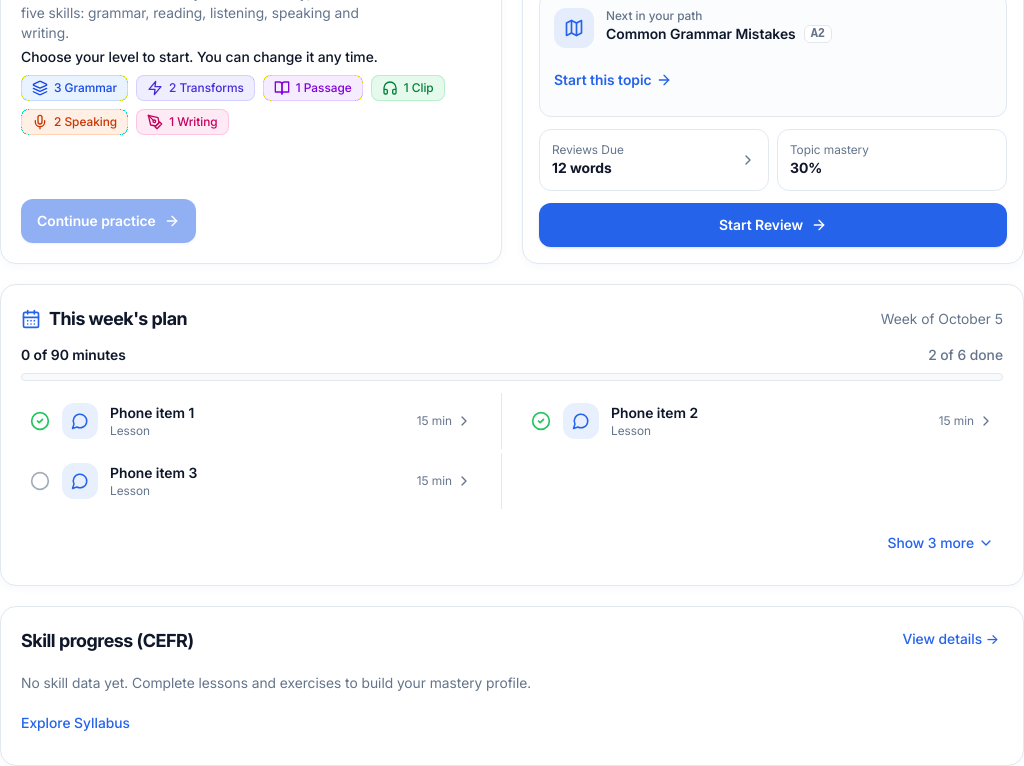
Scenario: Dashboard redesign (overview) › shows three weekly-plan items on a phone and expands to the rest
The width and height of the screenshot is (1024, 766).
(page scrolled)
Expected: the number of links "Phone item 1 Lesson 15 min" is 3, [21,392,481,448]; [522,392,1003,448]; [21,452,481,508]
What coordinates should you click on to do the following:
click the button "Show 3 more"
I would click on:
 (941, 542)
Its box is [878,520,1003,564].
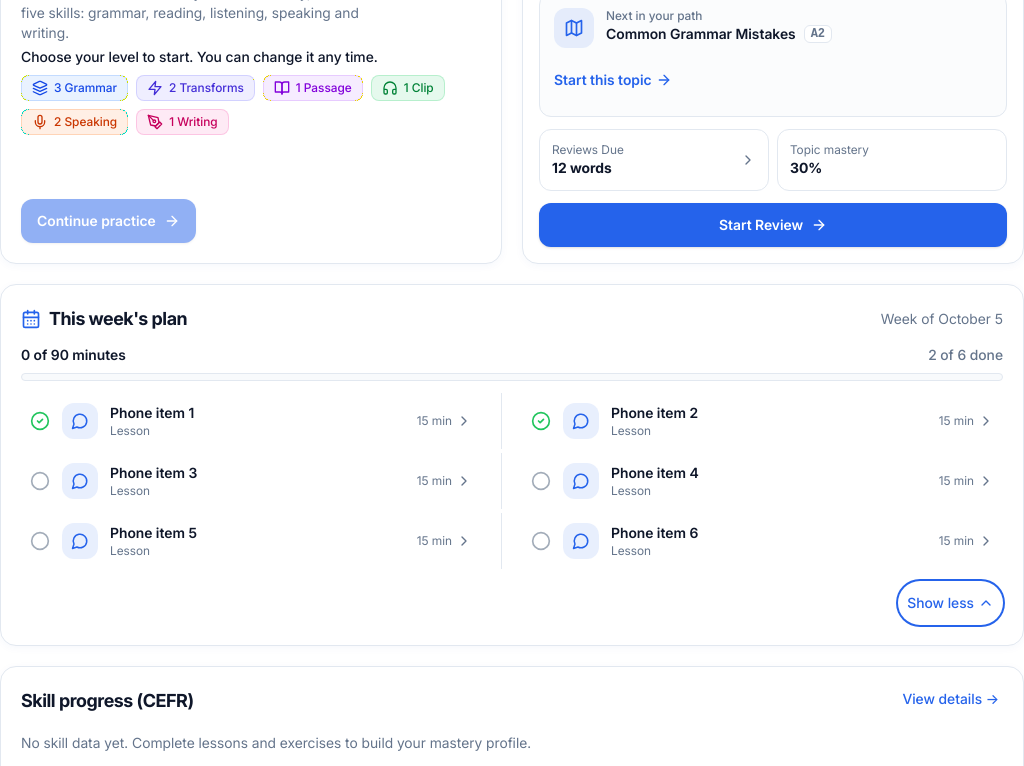
Expected: the number of links "Phone item 1 Lesson 15 min" is 6, [21,392,481,448]; [522,392,1003,448]; [21,452,481,508]; [522,452,1003,508]; [21,512,481,568]; [522,512,1003,568]
Expected: the button "Show less" is expanded, [898,580,1003,624]
